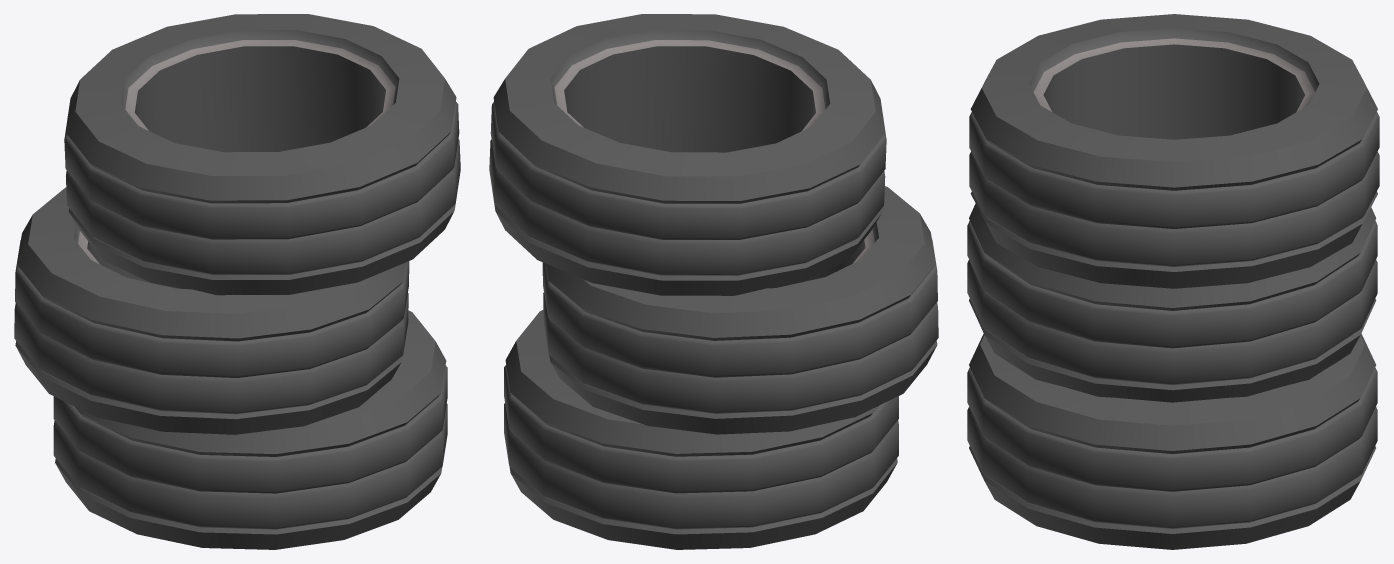
File: wheels.glb
The picture shows the model from 3 angles, left to right: view 1: azimuth 30°, elevation 25°; view 2: azimuth 150°, elevation 25°; view 3: azimuth 270°, elevation 25°; orthographic projection. The views are drawn at different scales.
Parts seen in each view (by area): view 1: Wheels_Stack; view 2: Wheels_Stack; view 3: Wheels_Stack.
Part boxes in pixels (box(x1,y1,x2,y2)): Wheels_Stack: box(14, 14, 460, 549); Wheels_Stack: box(489, 14, 938, 549); Wheels_Stack: box(967, 14, 1379, 549).
Bounding box in the file's own units: 0.6576 × 0.6114 × 0.5718.
Materials: 1 (1 with a texture image).
